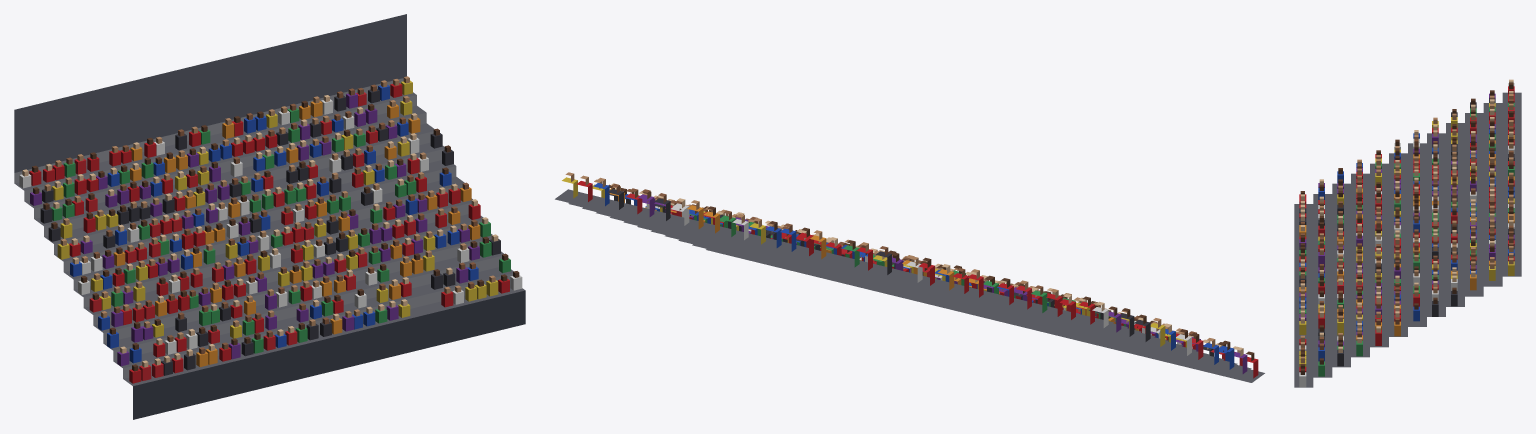
File: stand_long_a_hd.glb
3 renders of one model, left to right at view 1: azimuth 30°, elevation 25°; view 2: azimuth 150°, elevation 25°; view 3: azimuth 270°, elevation 25°, orthographic. The views are drawn at different scales.
Visible parts, largest first — view 1: stand_long_a; view 2: stand_long_a; view 3: stand_long_a.
Boxes of the visible parts, x1,y1,x2,y2 form: stand_long_a: (14, 14, 525, 419); stand_long_a: (555, 172, 1264, 382); stand_long_a: (1294, 79, 1521, 387).
Size of the model in its own units: 19.51 by 11 by 10.2.
